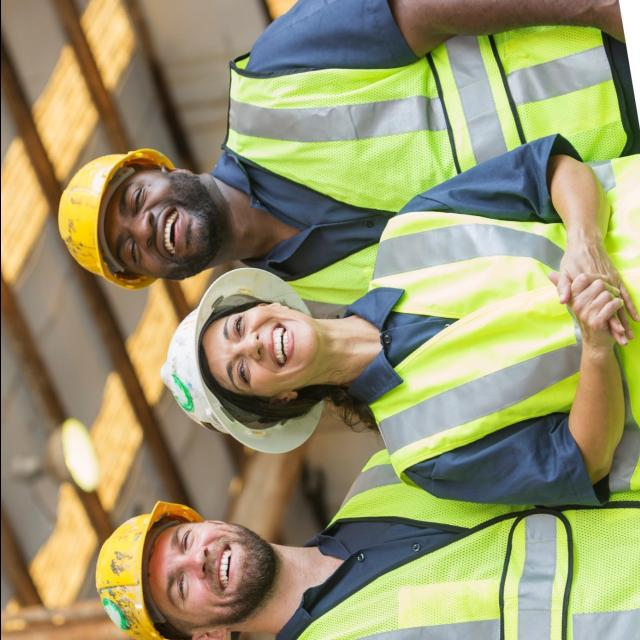helmet: (158, 266, 326, 462), (42, 138, 160, 306), (88, 497, 184, 640)
jacket: (214, 22, 638, 301), (366, 142, 638, 510), (299, 455, 631, 640)
